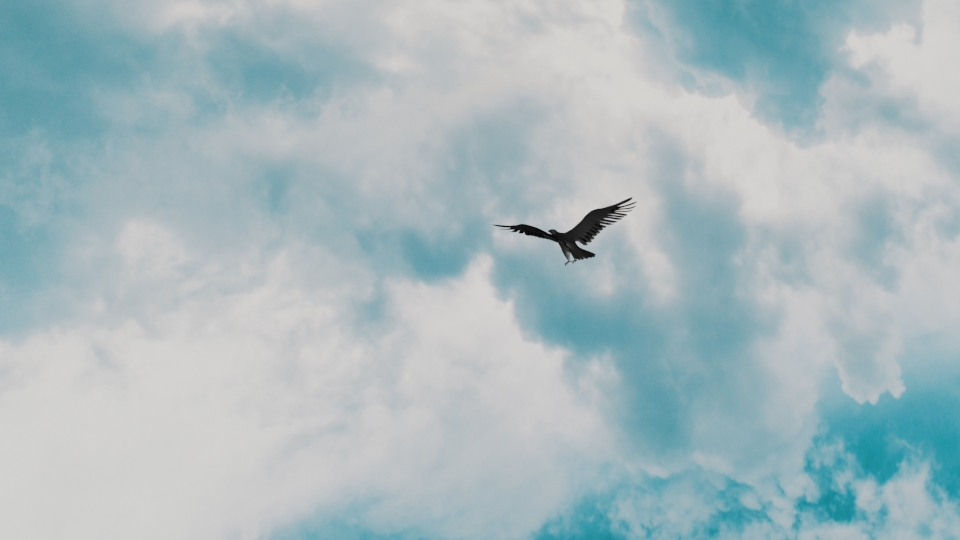bird: (492, 195, 638, 268)
